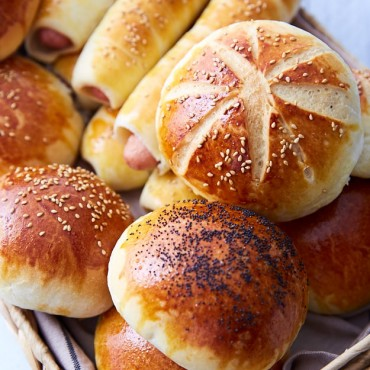hamburger_buns: (113, 175, 313, 349), (168, 17, 341, 210), (1, 164, 176, 331)
